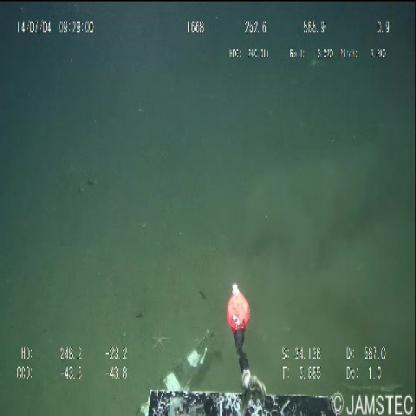Rác: (140, 333, 214, 415)
